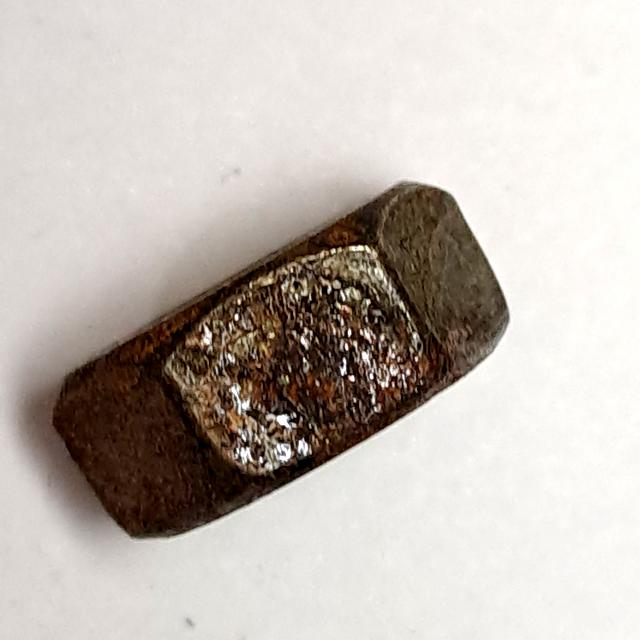Side_Rust: (42, 171, 522, 558)
